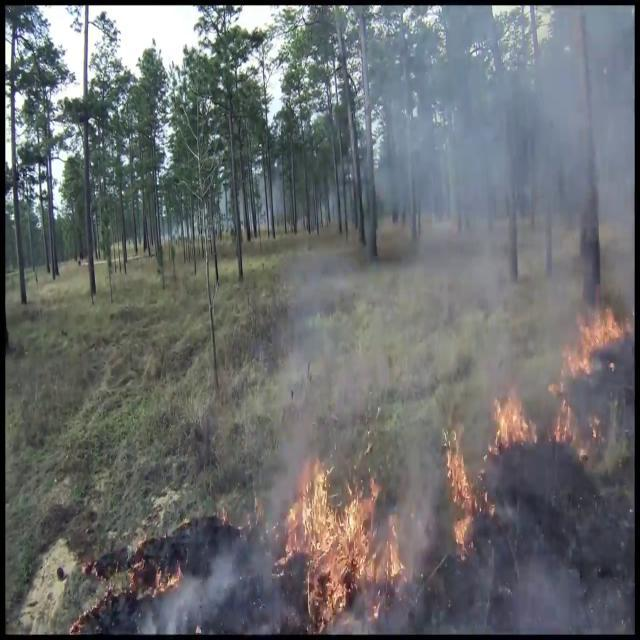Fire: (280, 452, 404, 627), (440, 416, 481, 554), (570, 294, 630, 378), (488, 384, 536, 452)
Smoke: (374, 4, 634, 394), (131, 516, 293, 634)
